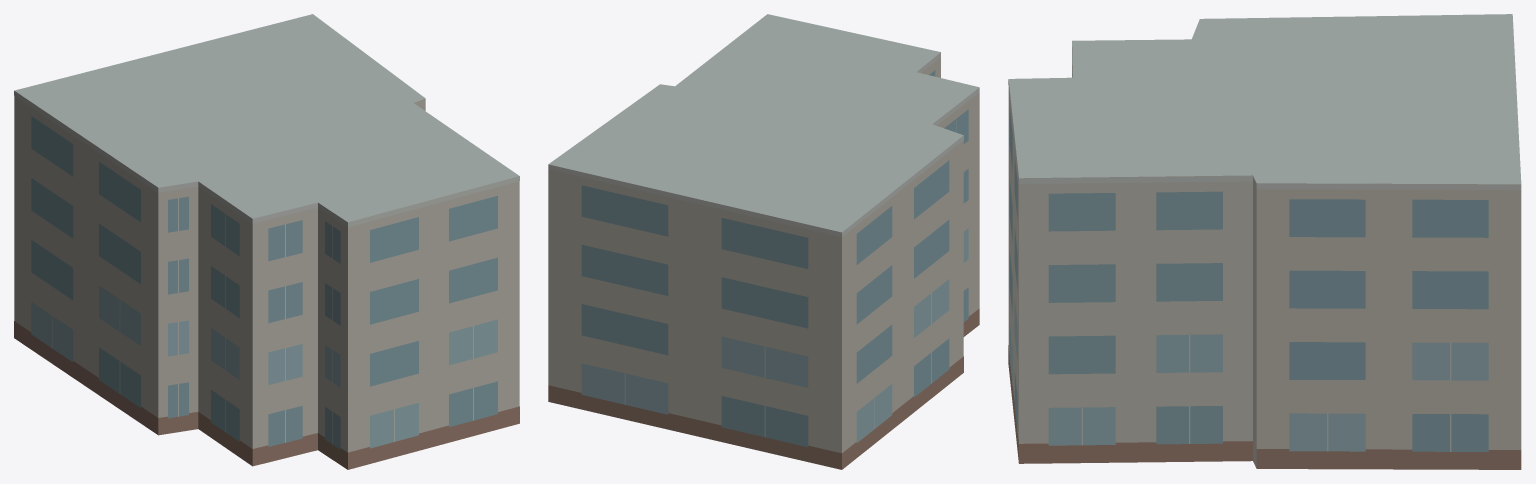
The model's file is survey-upis-32766909.glb.
The picture shows the model from 3 angles, left to right: view 1: azimuth 30°, elevation 25°; view 2: azimuth 150°, elevation 25°; view 3: azimuth 270°, elevation 25°; orthographic projection. The views are drawn at different scales.
Parts seen in each view (by area): view 1: survey-upis-32766909.tmp; view 2: survey-upis-32766909.tmp; view 3: survey-upis-32766909.tmp.
Boxes of the visible parts, x1,y1,x2,y2 form: survey-upis-32766909.tmp: [14, 14, 519, 469]; survey-upis-32766909.tmp: [548, 14, 979, 469]; survey-upis-32766909.tmp: [1008, 14, 1521, 469].
Bounding box in the file's own units: 15.1 × 11.8 × 19.21.
